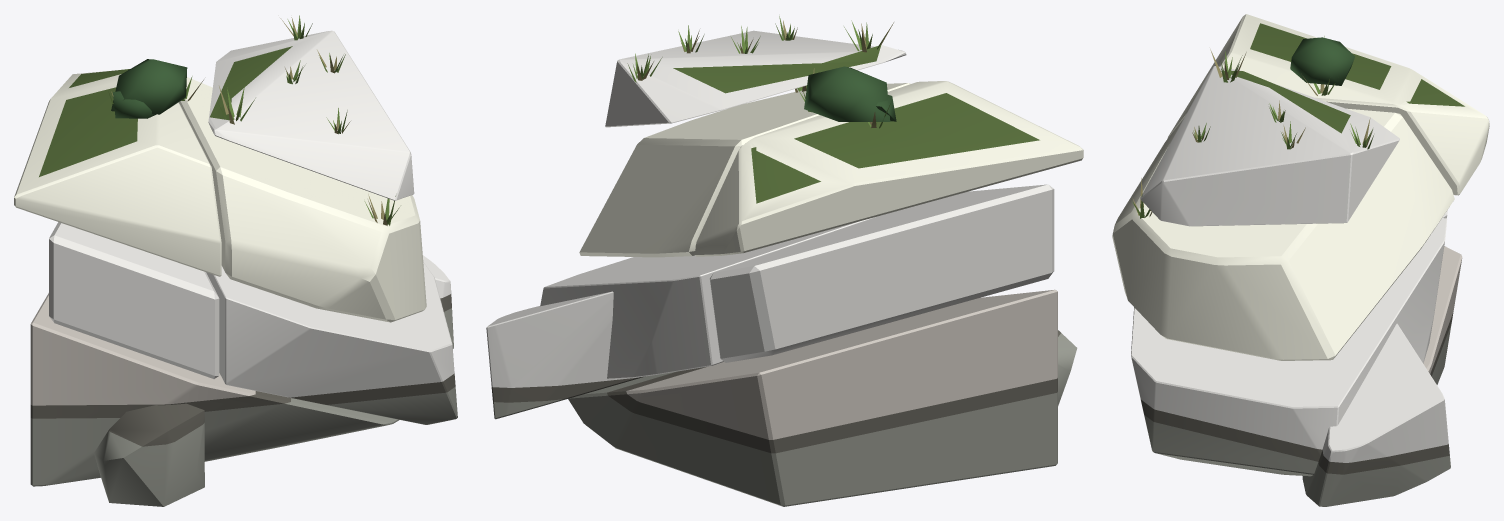
The model's file is rock_c.glb.
3 views of the same model, side by side, from view 1: azimuth 30°, elevation 25°; view 2: azimuth 150°, elevation 25°; view 3: azimuth 270°, elevation 25° (orthographic). The views are drawn at different scales.
Visible parts, largest first — view 1: rock_c_body; view 2: rock_c_body; view 3: rock_c_body.
Part boxes in pixels (x1=…): rock_c_body: x1=14, y1=15, x2=457, y2=506; rock_c_body: x1=486, y1=16, x2=1083, y2=506; rock_c_body: x1=1112, y1=14, x2=1489, y2=506.
Size of what is drawn, in the model's own units: 5.81 by 4.14 by 4.23.
